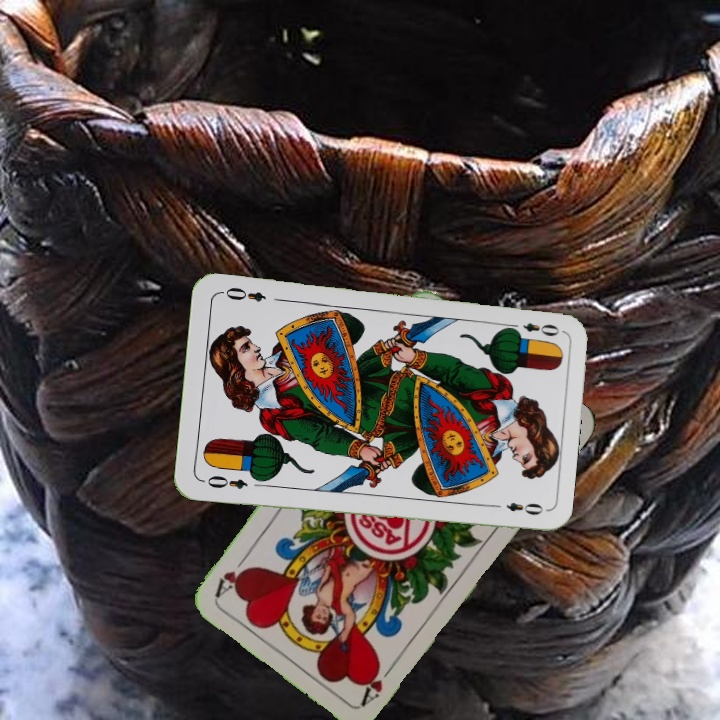EO: (504, 318, 562, 339), (203, 471, 250, 492)
HA: (357, 656, 400, 708)
